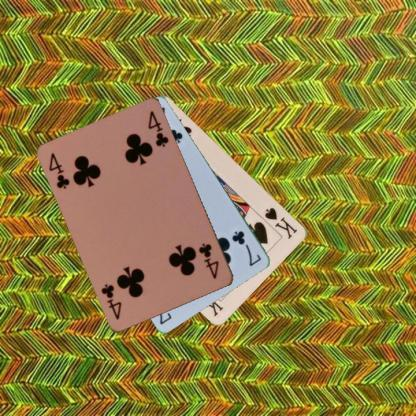4c: (46, 150, 72, 191), (196, 240, 221, 281)
7c: (229, 228, 263, 268)
Ks: (262, 204, 300, 240)
